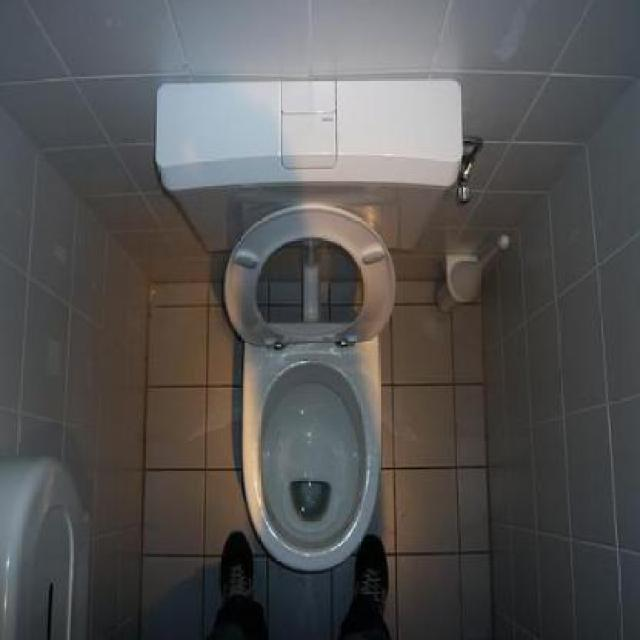Person: (212, 529, 390, 637)
